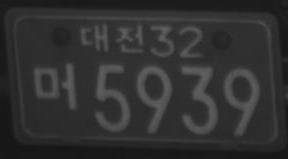2: (177, 24, 204, 59)
3: (179, 64, 219, 136), (148, 23, 175, 58)
5: (92, 62, 132, 135)
9: (221, 66, 262, 137), (134, 63, 173, 134)
대전_O: (80, 23, 146, 54)
머: (32, 62, 79, 110)
